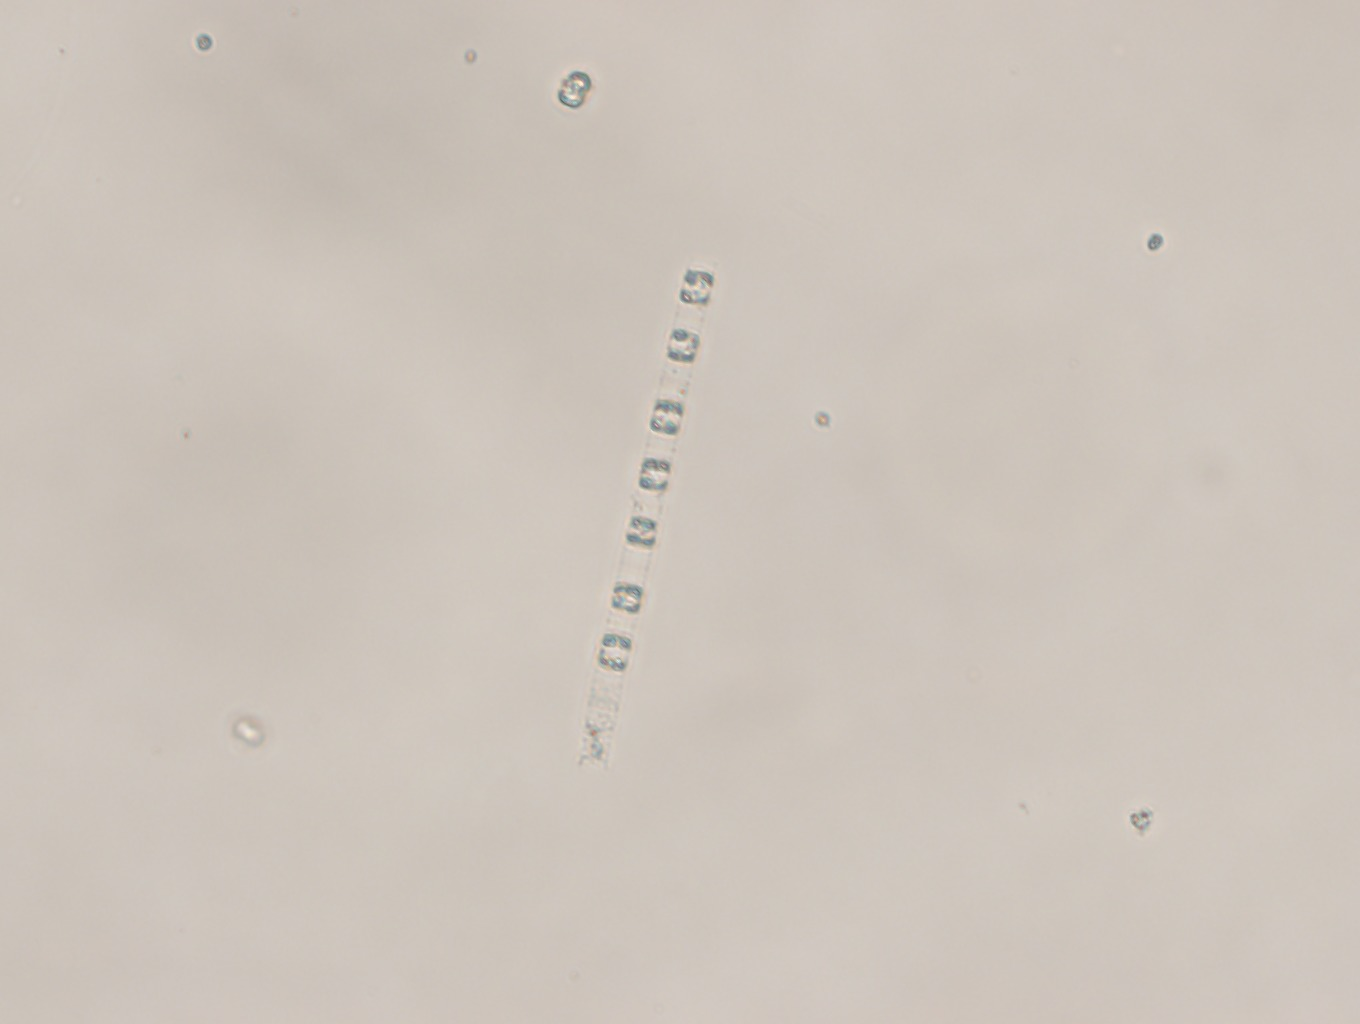skeletonema: (562, 237, 726, 810)
